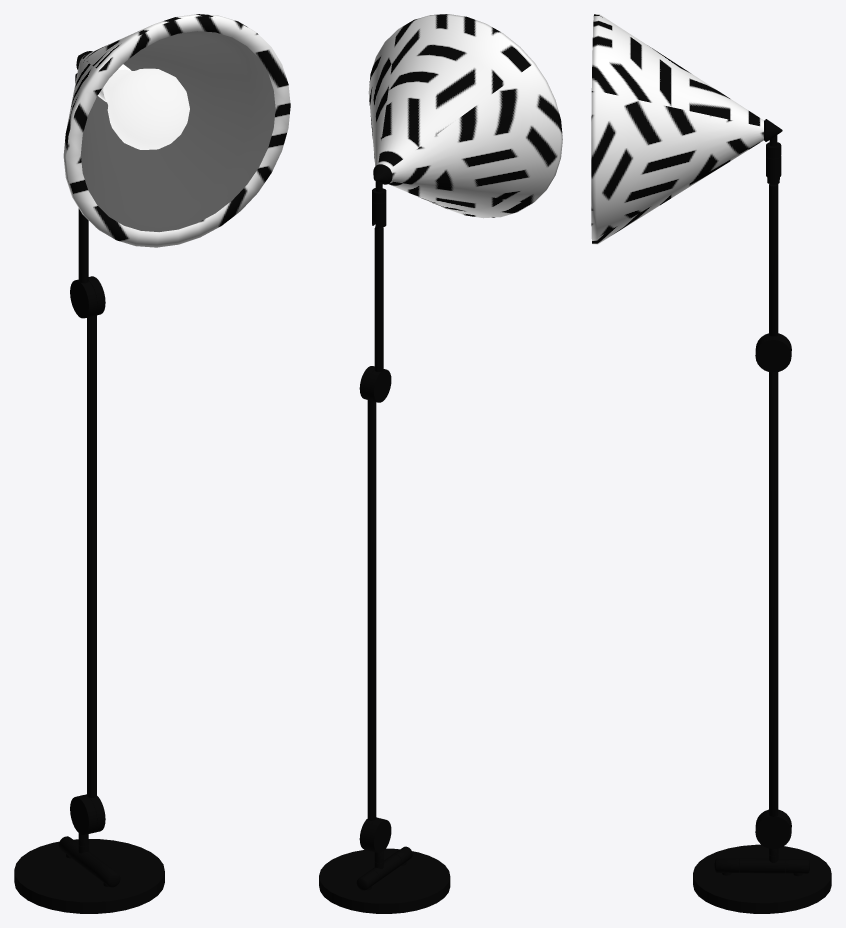
The model's file is cand.gltf.
The picture shows the model from 3 angles, left to right: view 1: azimuth 30°, elevation 25°; view 2: azimuth 150°, elevation 25°; view 3: azimuth 270°, elevation 25°; orthographic projection. The views are drawn at different scales.
Parts seen in each view (by area): view 1: Abajur, Support, S_LightBulb, LongArm, ShortArm, CircleJoint, SupportJointHolder; view 2: Abajur, Support, LongArm, ShortArm, CircleJoint, AbajurJoint, SupportJointHolder; view 3: Abajur, LongArm, Support, ShortArm, SupportJointHolder, SupportJoint, AbajurJoint.
Part boxes in pixels (x1=…): Abajur: x1=63, y1=14, x2=290, y2=247; Support: x1=14, y1=839, x2=164, y2=913; S_LightBulb: x1=97, y1=64, x2=189, y2=149; LongArm: x1=85, y1=276, x2=105, y2=832; ShortArm: x1=70, y1=208, x2=97, y2=318; CircleJoint: x1=70, y1=795, x2=97, y2=846; SupportJointHolder: x1=58, y1=836, x2=120, y2=887; Abajur: x1=368, y1=14, x2=562, y2=218; Support: x1=319, y1=848, x2=450, y2=913; LongArm: x1=359, y1=366, x2=378, y2=850; ShortArm: x1=367, y1=222, x2=391, y2=402; CircleJoint: x1=367, y1=818, x2=391, y2=863; AbajurJoint: x1=372, y1=164, x2=392, y2=203; SupportJointHolder: x1=356, y1=846, x2=412, y2=890; Abajur: x1=591, y1=14, x2=763, y2=244; LongArm: x1=755, y1=336, x2=791, y2=848; Support: x1=693, y1=844, x2=831, y2=913; ShortArm: x1=755, y1=184, x2=791, y2=350; SupportJointHolder: x1=714, y1=858, x2=809, y2=875; SupportJoint: x1=739, y1=854, x2=785, y2=873; AbajurJoint: x1=764, y1=119, x2=782, y2=158.
Bounding box in the file's own units: 0.1562 × 0.6255 × 0.1589.
5 materials, 1 textured.
